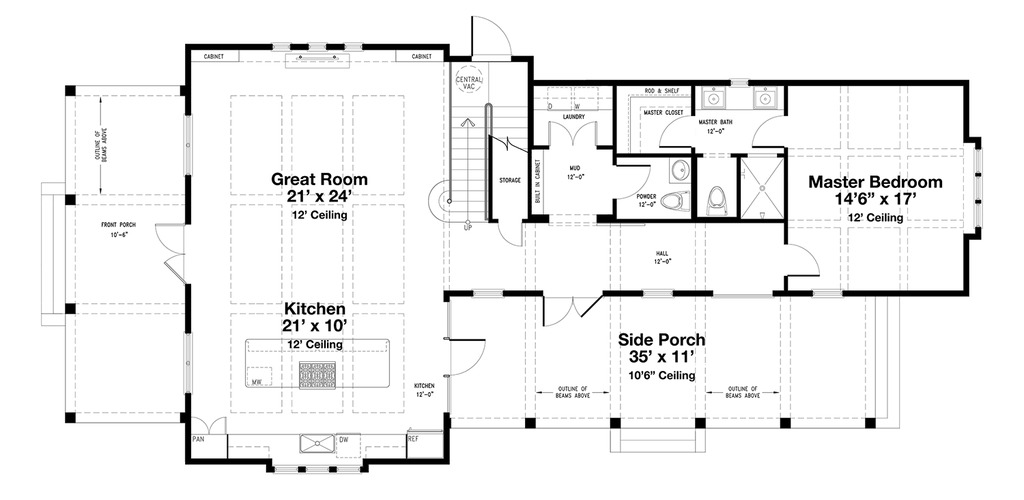door: (537, 290, 605, 328), (151, 220, 189, 286), (467, 11, 510, 60), (448, 332, 486, 377), (545, 119, 601, 148), (658, 111, 697, 150), (781, 242, 821, 280), (614, 162, 652, 200), (750, 115, 789, 149), (497, 216, 527, 249)
large_sink: (706, 183, 730, 217), (657, 190, 689, 213)
small_sink: (667, 154, 691, 186)
stairs: (449, 62, 527, 222)
windows: (266, 39, 363, 54), (972, 147, 985, 234), (180, 109, 195, 181), (182, 328, 193, 395), (271, 466, 359, 474), (640, 288, 678, 303), (805, 289, 851, 301)
